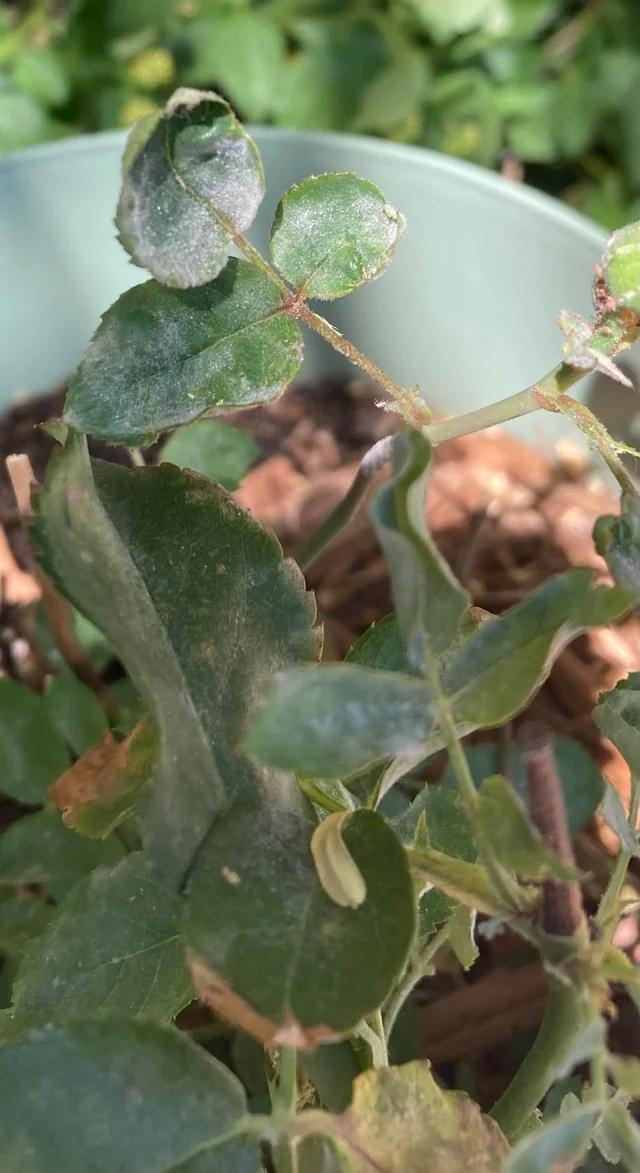powdery_mildew: (8, 20, 640, 1132)
